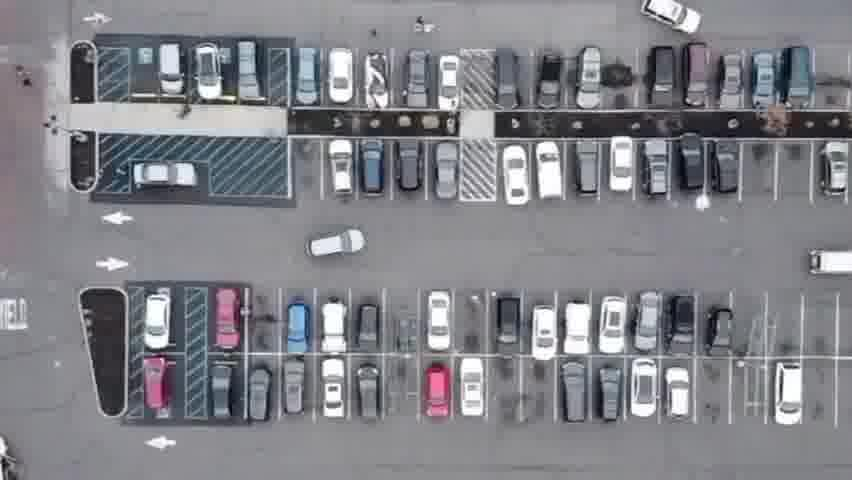car: (453, 359, 491, 426), (769, 366, 804, 436), (641, 0, 701, 40), (783, 46, 819, 111), (646, 52, 681, 117), (499, 142, 534, 207), (133, 159, 204, 191), (683, 48, 714, 117), (707, 142, 743, 201), (315, 360, 348, 424), (559, 364, 591, 430), (630, 364, 664, 426), (307, 230, 367, 265), (327, 139, 360, 202), (676, 142, 709, 205), (593, 369, 625, 432), (493, 293, 524, 358), (494, 52, 525, 116), (535, 147, 568, 207), (529, 309, 563, 367), (668, 297, 699, 360), (662, 367, 693, 430), (571, 143, 603, 204), (213, 285, 243, 350), (424, 285, 453, 350), (805, 243, 852, 283), (576, 51, 604, 118), (353, 364, 384, 424), (423, 364, 454, 424), (562, 303, 594, 361), (196, 43, 229, 99), (598, 300, 628, 361), (433, 144, 462, 206), (818, 144, 849, 202), (395, 141, 425, 200), (358, 139, 387, 200), (321, 301, 352, 358), (326, 43, 355, 103), (406, 50, 435, 110), (247, 365, 275, 427), (158, 41, 189, 97), (645, 145, 674, 204), (141, 356, 170, 415), (236, 43, 265, 101), (753, 54, 782, 112), (706, 308, 736, 364), (210, 362, 237, 424), (145, 292, 173, 351), (295, 45, 322, 106), (538, 57, 564, 120), (439, 56, 466, 116), (634, 295, 659, 359), (365, 52, 393, 109), (283, 359, 310, 418), (608, 137, 634, 198), (283, 302, 312, 355), (720, 55, 745, 116), (358, 305, 382, 358)
